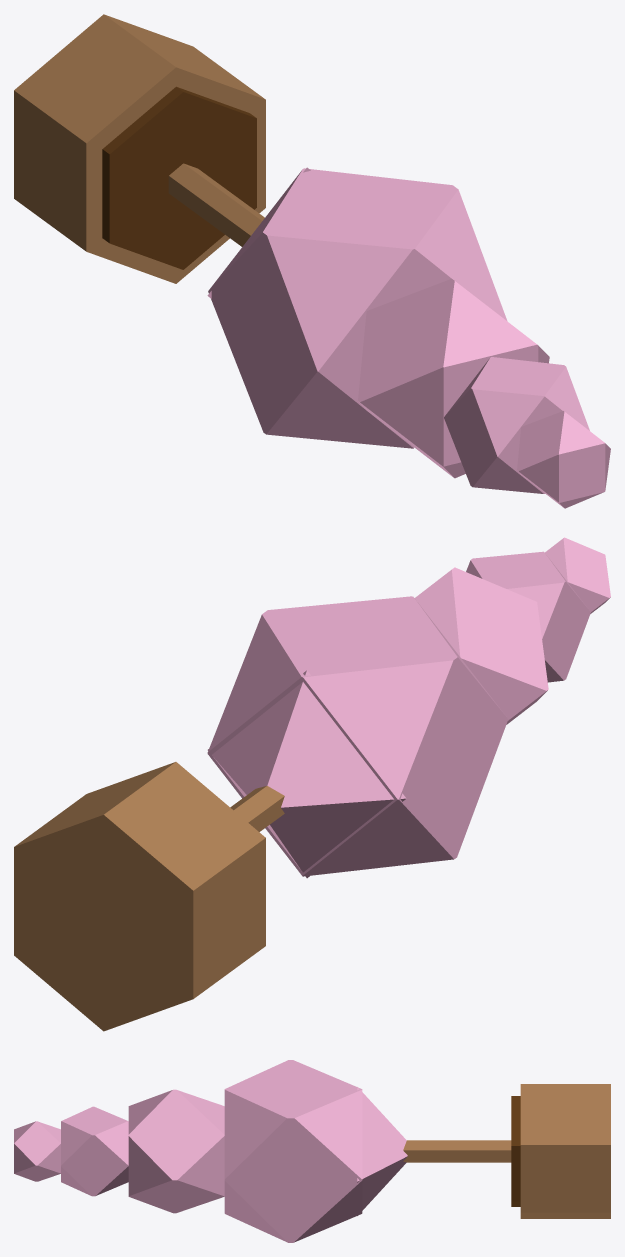
The model's file is tinker.obj.
3 views of the same model, one above another, from view 1: azimuth 30°, elevation 25°; view 2: azimuth 150°, elevation 25°; view 3: azimuth 270°, elevation 25° (orthographic). The views are drawn at different scales.
Parts seen in each view (by area): view 1: group_0_-1068588, group_0_-5670064, group_0_-10471149; view 2: group_0_-1068588, group_0_-5670064; view 3: group_0_-1068588, group_0_-5670064, group_0_-10471149.
Part boxes in pixels (x1,y1,x2,y2): group_0_-1068588: (207,167,610,508); group_0_-5670064: (14,14,265,283); group_0_-10471149: (102,86,256,269); group_0_-1068588: (207,537,610,878); group_0_-5670064: (14,762,284,1031); group_0_-1068588: (14,1060,407,1242); group_0_-5670064: (403,1084,610,1218); group_0_-10471149: (511,1096,520,1206).
Size of the model in its own units: 28.85 by 30 by 120.
